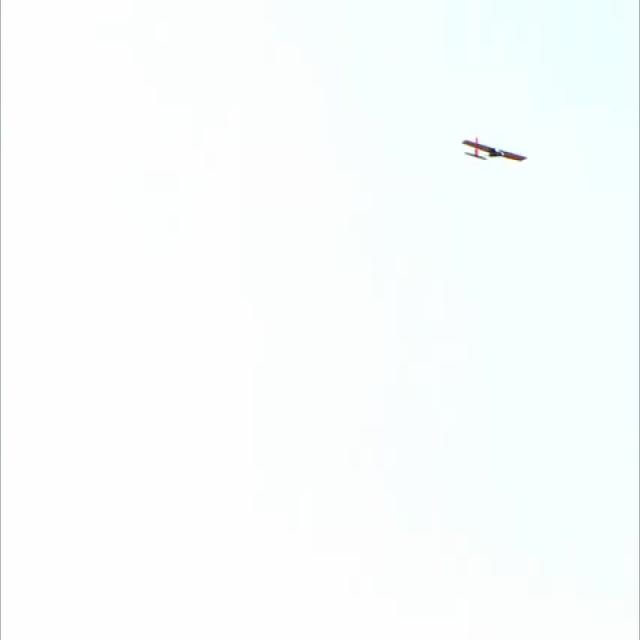iha: (493, 136, 496, 167)
